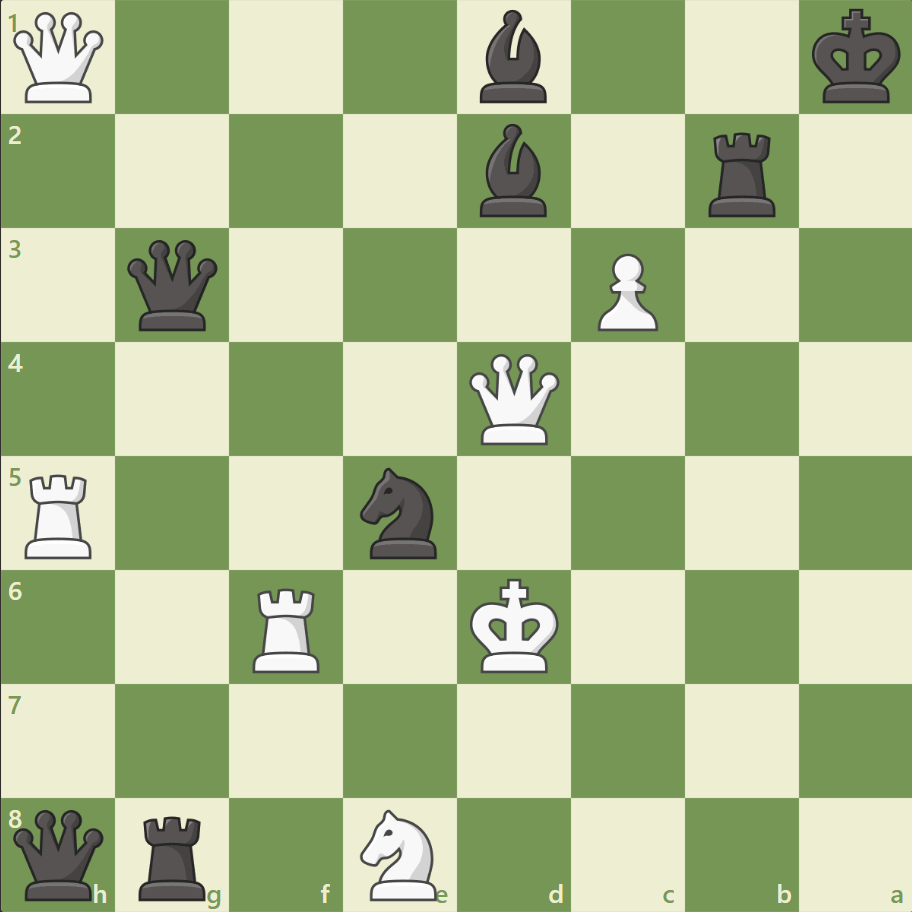K: (465, 571, 565, 679)
N: (351, 802, 449, 904)
P: (588, 246, 662, 337)
Q: (464, 349, 563, 449), (10, 9, 109, 108)
R: (246, 579, 329, 676), (19, 466, 102, 563)
b: (471, 6, 555, 109), (471, 120, 555, 222)
k: (806, 4, 906, 112)
n: (351, 461, 449, 564)
q: (10, 804, 109, 903), (124, 236, 223, 335)
r: (700, 125, 783, 222), (133, 806, 215, 904)
